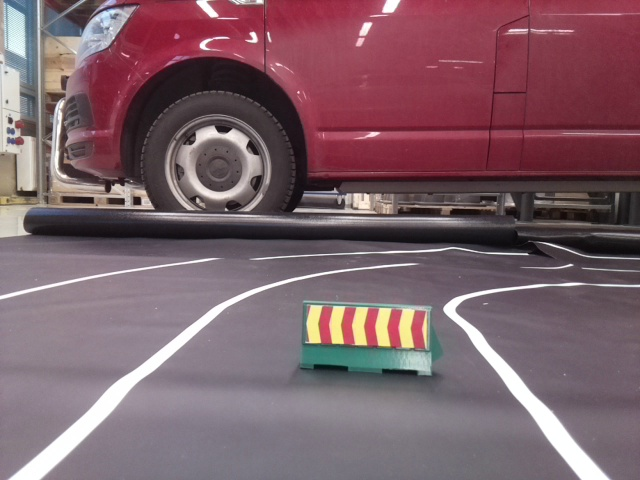ClosedRoadStand: (301, 301, 433, 373)
